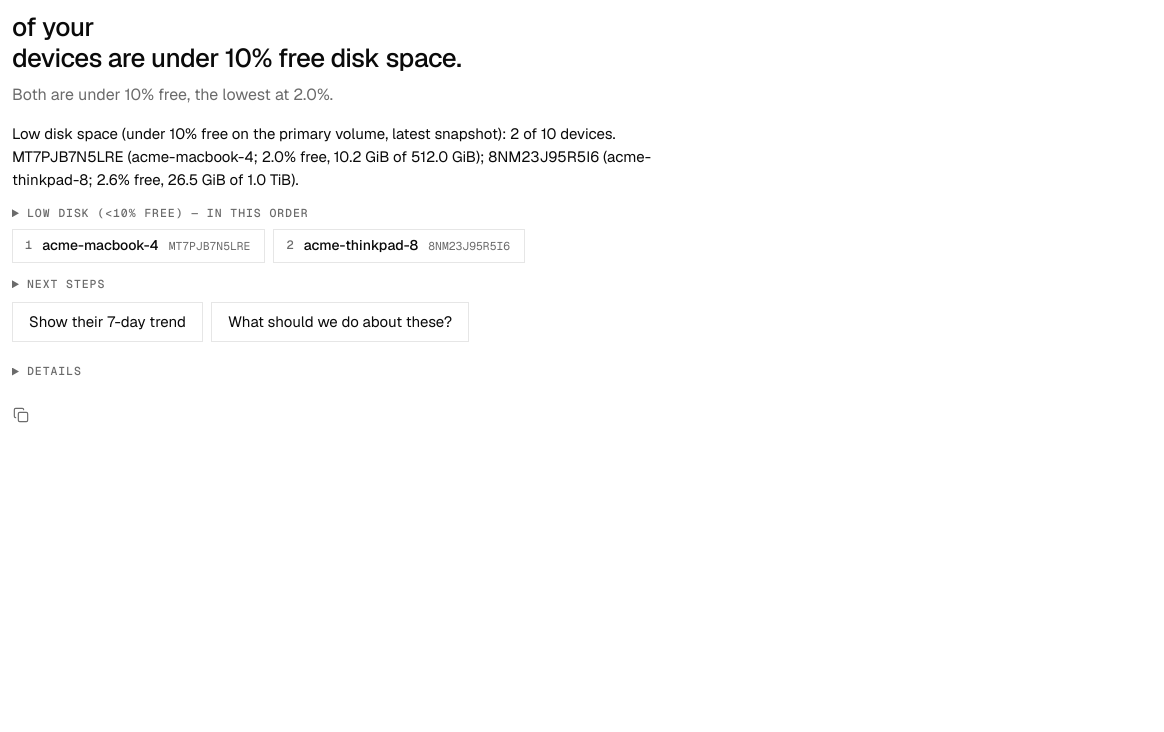
Test: an answer › keeps rule, coverage, evidence and trace behind a collapsed Details disclosure
The width and height of the screenshot is (1164, 732).
Expected: the text "Evaluated" is not shown
Expected: the button "Show work" is not shown
Click the button "Details".
click(52, 372)  # box [12, 356, 92, 388]
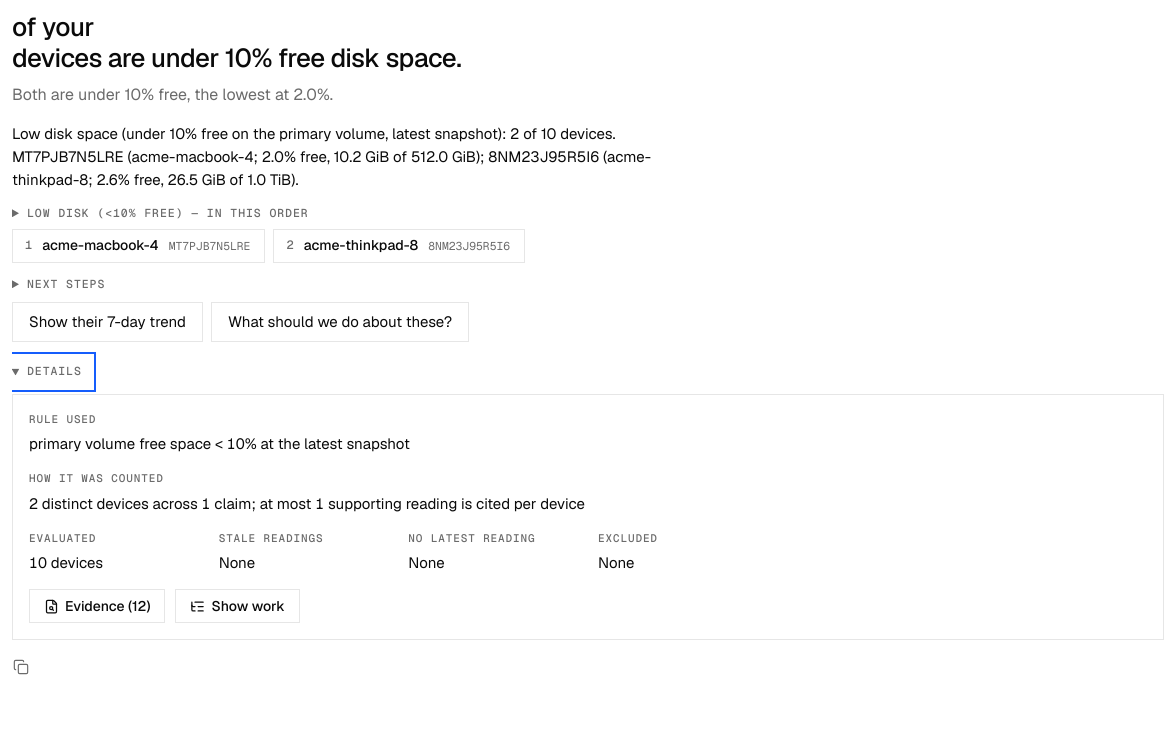
Expected: the text "primary volume free space < 10% at the latest snapshot" is shown, [29, 434, 410, 453]
Expected: the text "Evaluated" is shown, [29, 531, 96, 545]
Expected: the text "Stale readings" is shown, [219, 531, 323, 545]
The answer cites its two readings and the readings its suggested actions rest on.
Click the button "Evidence (12)".
click(97, 606)  # box [29, 589, 166, 623]
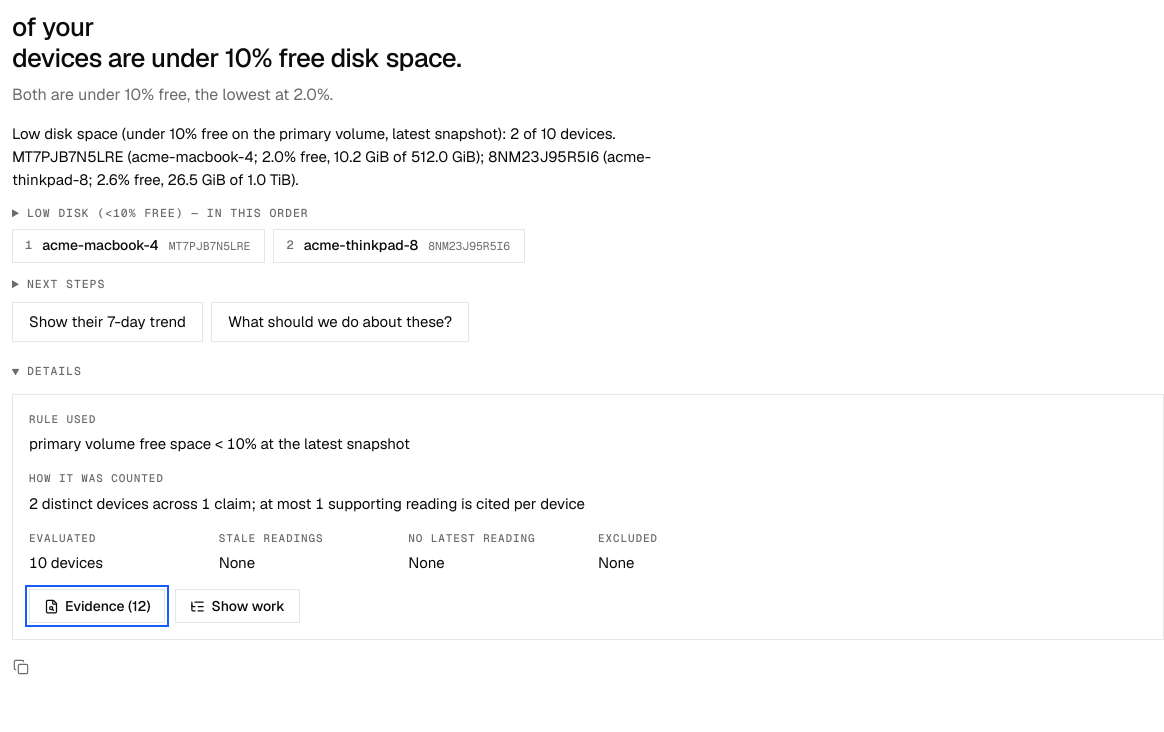
Click the button "Show work".
click(238, 606)  # box [176, 589, 300, 623]
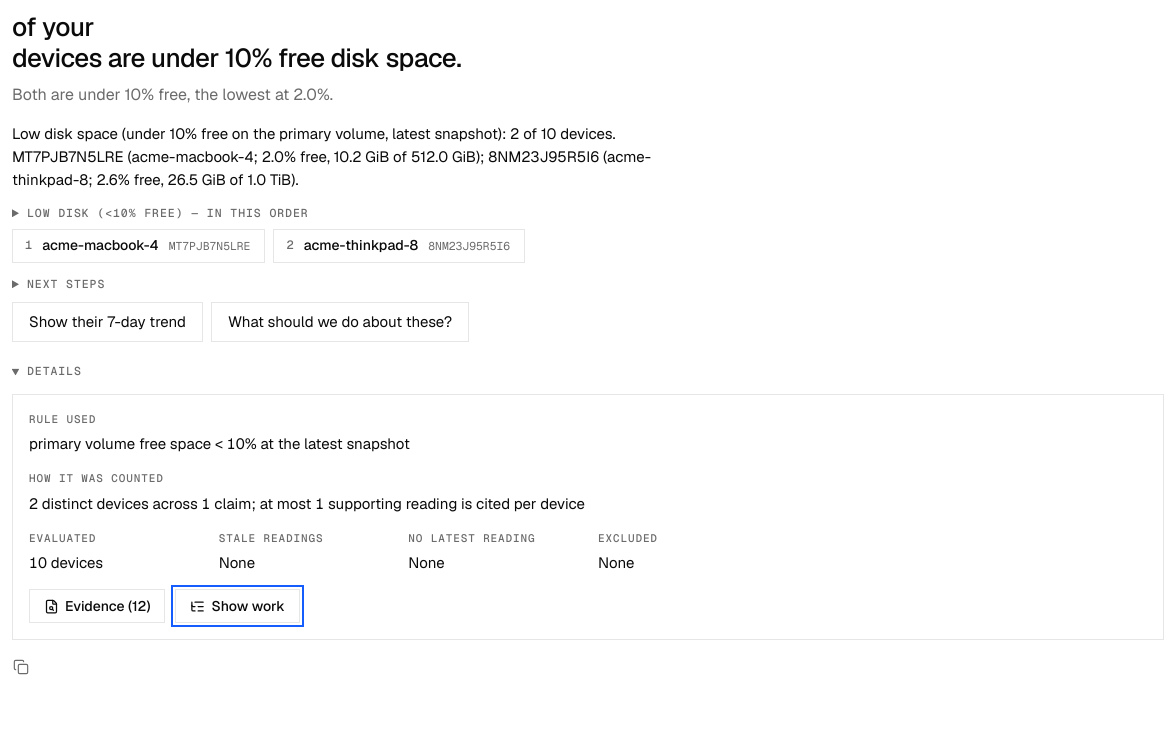
Click the button "Details".
click(52, 372)  # box [12, 356, 92, 388]
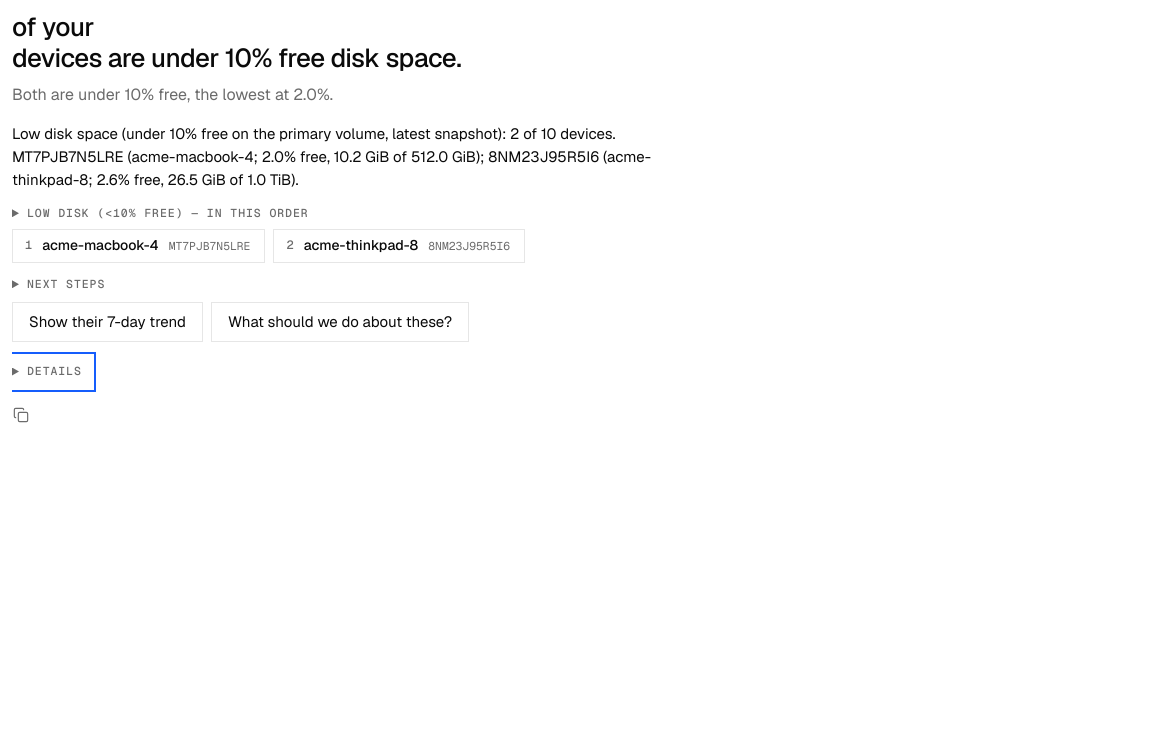
Expected: the button "Show work" is gone
